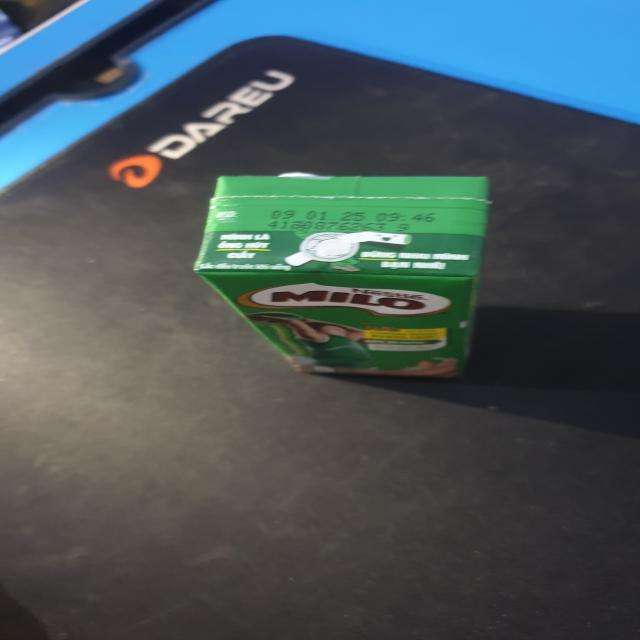Milo: (201, 176, 498, 379)
